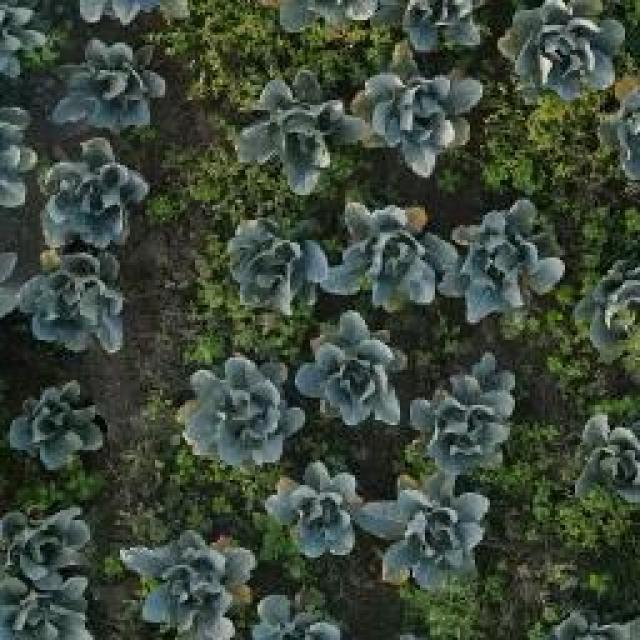cabbage: (238, 73, 358, 195), (15, 230, 127, 348), (173, 345, 285, 463), (295, 315, 407, 433), (362, 67, 481, 177), (442, 195, 552, 313), (372, 470, 482, 588), (125, 536, 247, 638), (330, 205, 441, 308), (52, 38, 167, 136), (503, 0, 620, 96), (41, 145, 148, 243), (413, 361, 506, 470), (226, 216, 330, 310), (10, 378, 104, 481), (270, 468, 361, 560), (2, 504, 89, 592), (574, 258, 640, 356), (572, 415, 640, 505), (393, 0, 484, 48)
